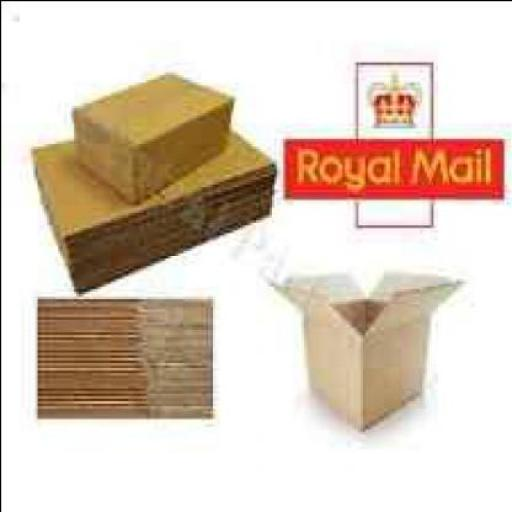cardboard: (30, 117, 270, 288), (270, 268, 460, 422), (66, 68, 229, 202), (34, 290, 210, 413)
